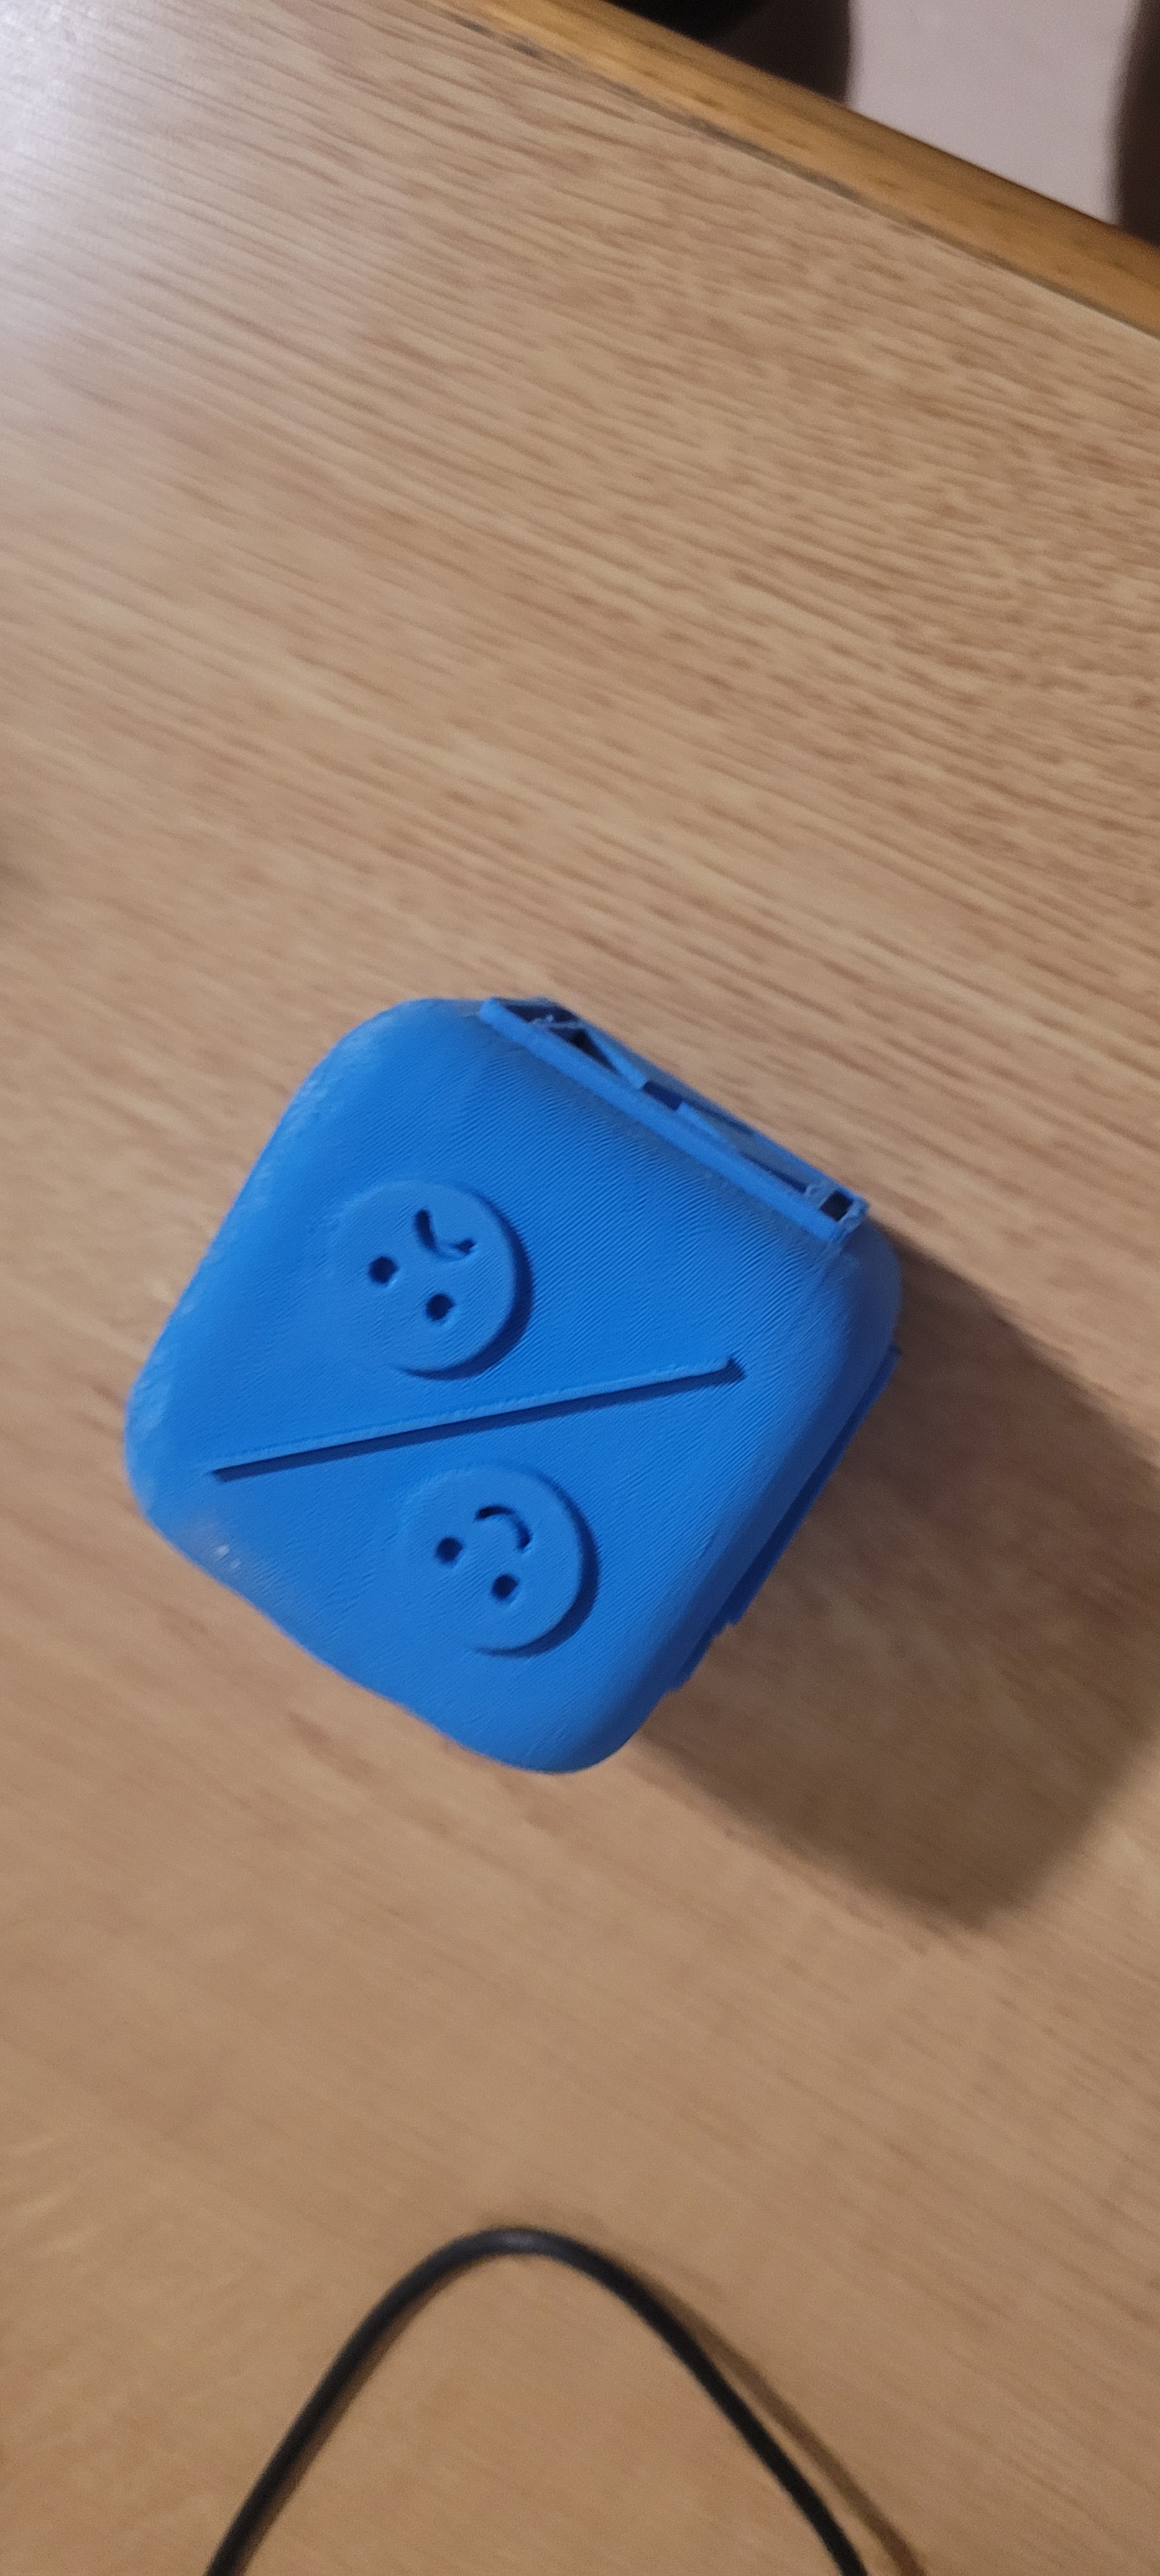Like/Dislike: (174, 987, 848, 1781)
